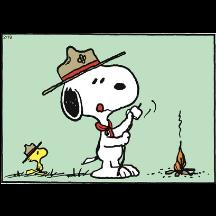snoopy: (53, 43, 143, 179)
